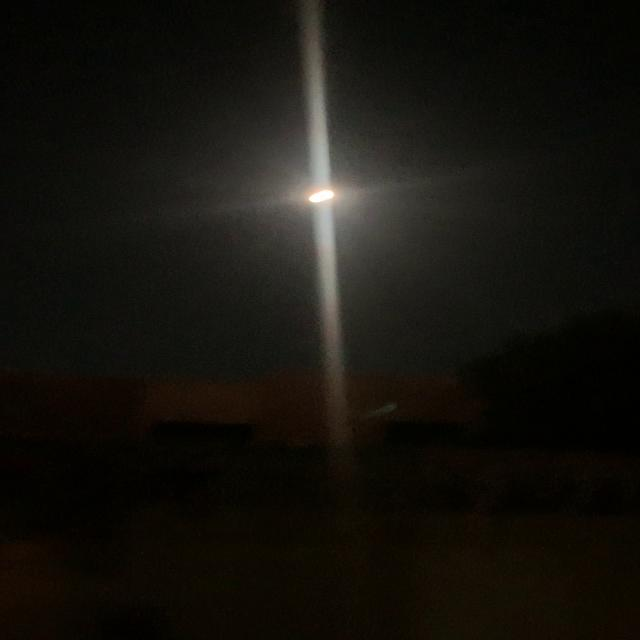moon: (291, 180, 353, 213)
